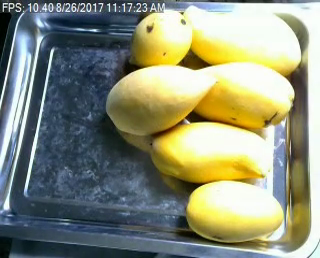Mango: (183, 4, 299, 74), (107, 65, 213, 134), (186, 61, 294, 128), (152, 120, 270, 180), (189, 180, 285, 242), (128, 9, 192, 65)
